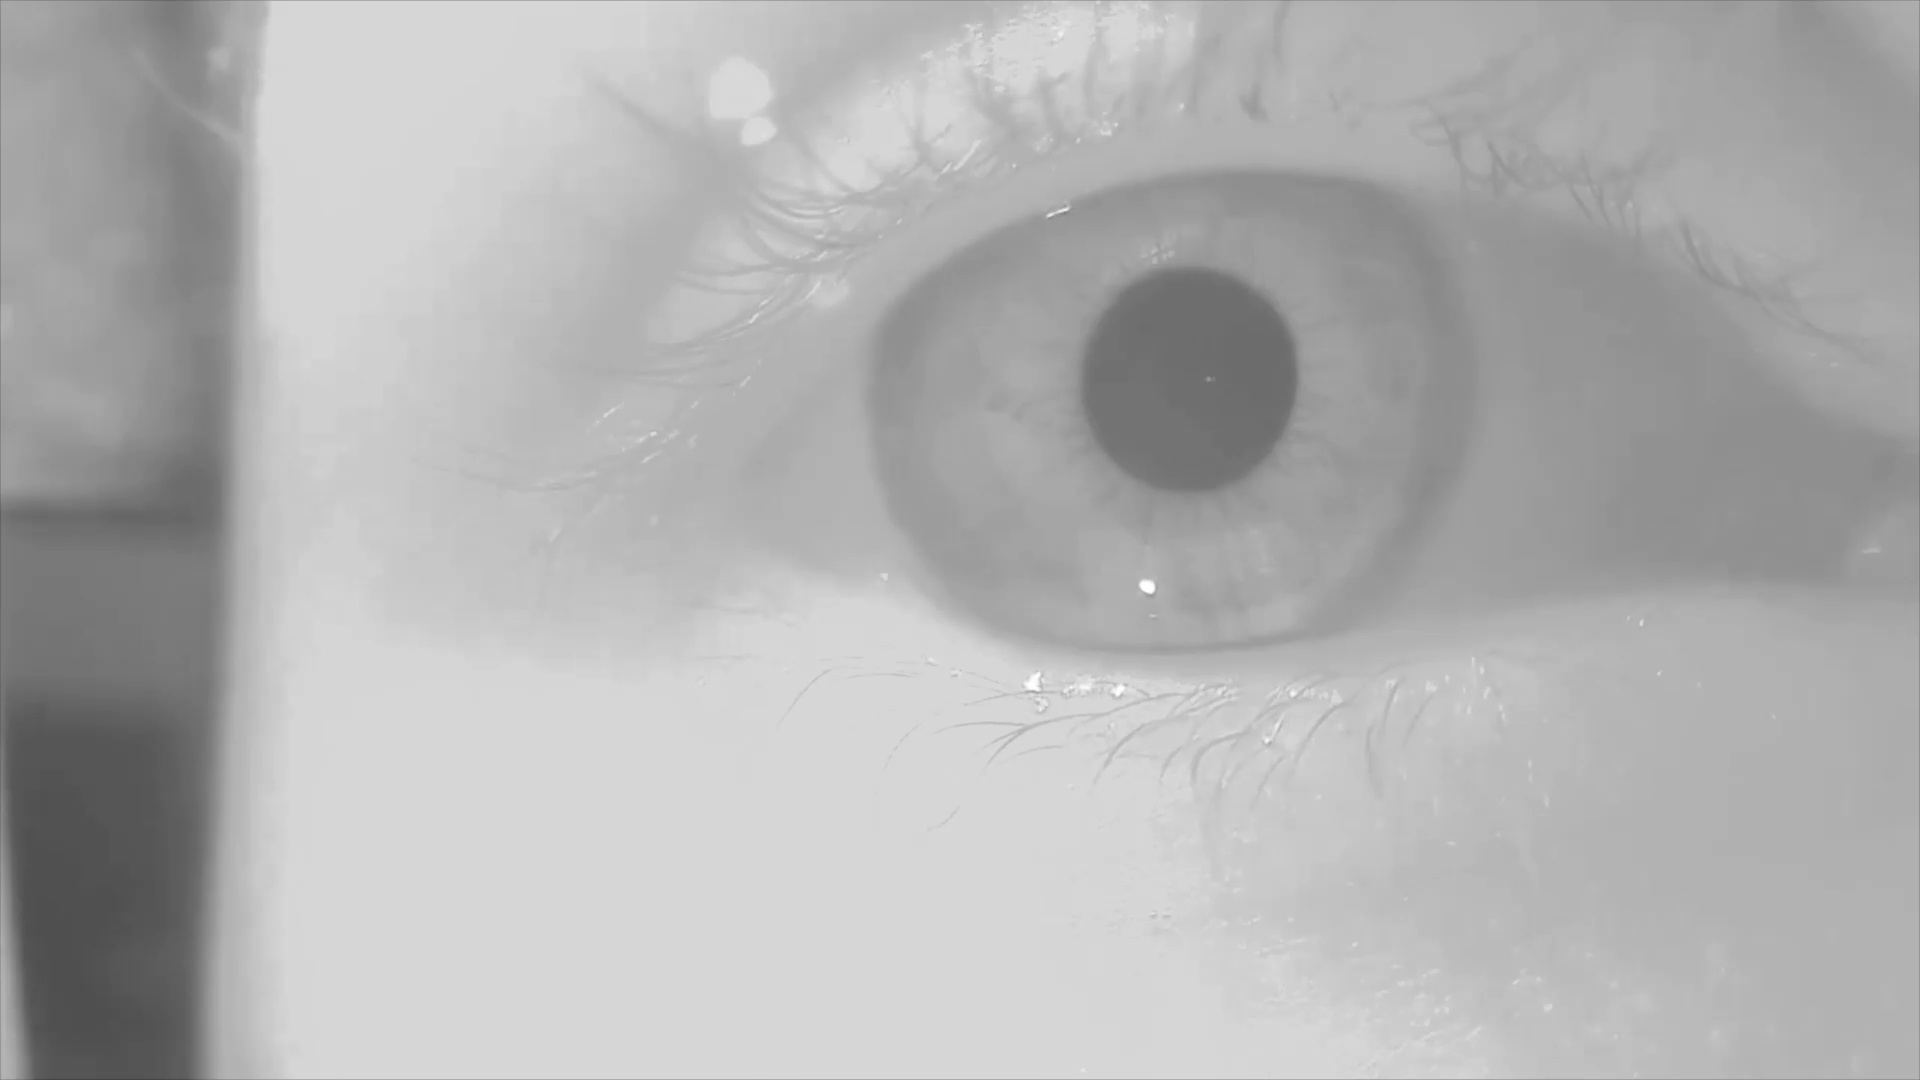pupil: (1083, 270, 1300, 497)
